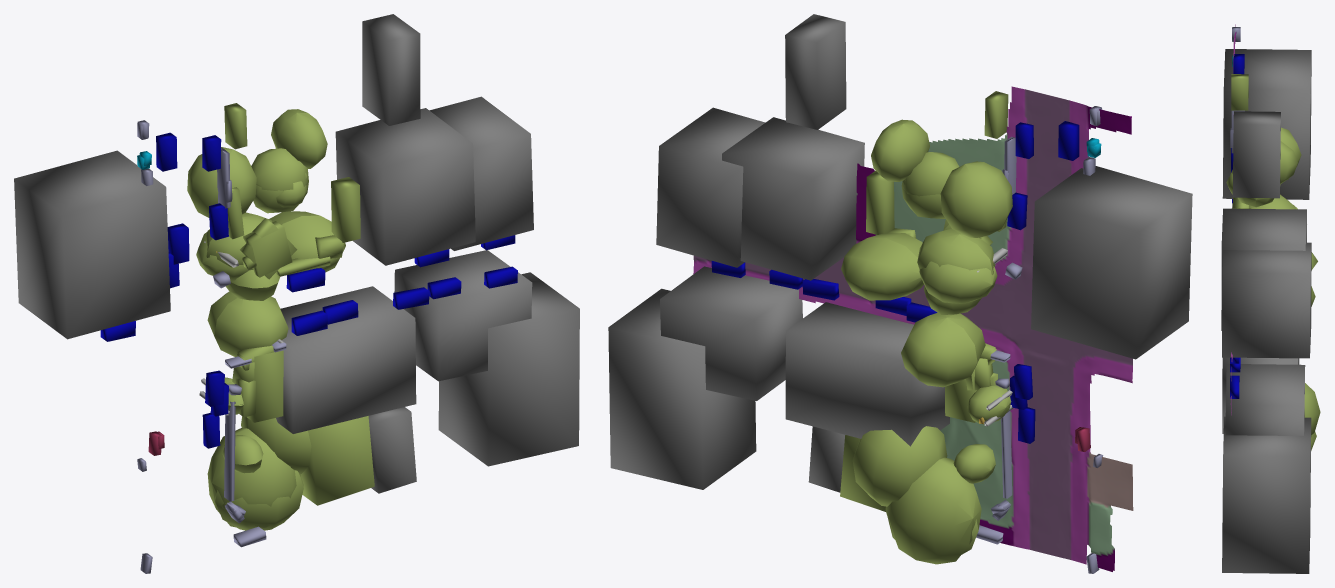
The picture shows the model from 3 angles, left to right: view 1: azimuth 30°, elevation 25°; view 2: azimuth 150°, elevation 25°; view 3: azimuth 270°, elevation 25°; orthographic projection. The views are drawn at different scales.
Size of the model in its own units: 77.22 by 68.54 by 14.84.
